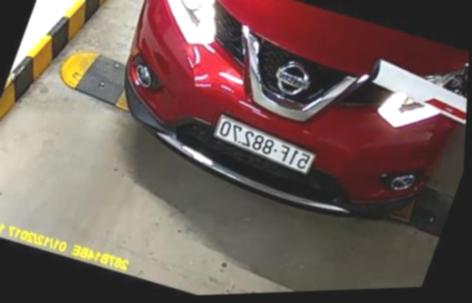License_Plate: (198, 113, 321, 184)
